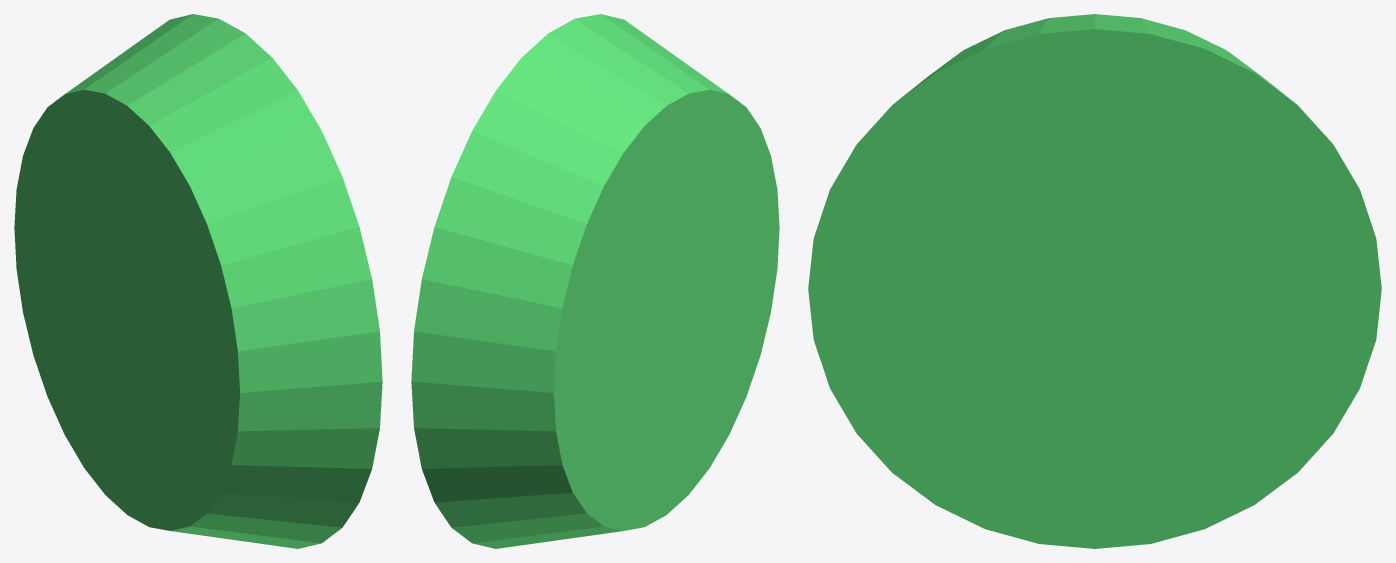
The model's file is green_button.glb.
3 renders of one model, left to right at view 1: azimuth 30°, elevation 25°; view 2: azimuth 150°, elevation 25°; view 3: azimuth 270°, elevation 25°, orthographic. The views are drawn at different scales.
Parts seen in each view (by area): view 1: green_button; view 2: green_button; view 3: green_button.
Part boxes in pixels (box(x1,y1,x2,y2)): green_button: box(14, 14, 382, 548); green_button: box(411, 14, 779, 548); green_button: box(808, 14, 1381, 548).
Bounding box in the file's own units: 0.125 × 0.5 × 0.5.
